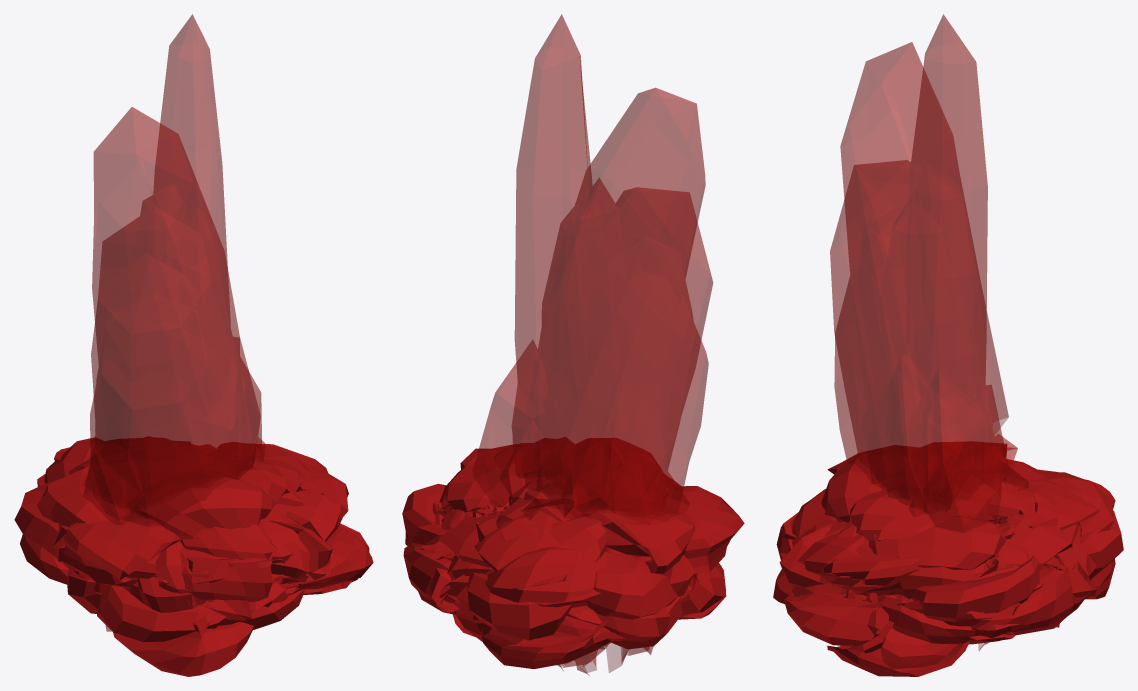
Rendered from crystal15.obj.
The picture shows the model from 3 angles, left to right: view 1: azimuth 30°, elevation 25°; view 2: azimuth 150°, elevation 25°; view 3: azimuth 270°, elevation 25°; orthographic projection. The views are drawn at different scales.
Parts seen in each view (by area): view 1: Cube.001, Circle, Circle.001; view 2: Circle, Cube.001, Circle.001; view 3: Cube.001, Circle, Circle.001.
Part boxes in pixels (x1,y1,x2,y2): Cube.001: [14, 436, 373, 676]; Circle: [81, 14, 265, 631]; Circle.001: [83, 206, 260, 593]; Circle: [472, 14, 705, 670]; Cube.001: [402, 437, 744, 668]; Circle.001: [512, 187, 713, 675]; Cube.001: [773, 442, 1123, 676]; Circle: [840, 14, 1028, 650]; Circle.001: [830, 160, 1009, 512].
Size of the model in its own units: 2.27 by 4.84 by 2.33.
